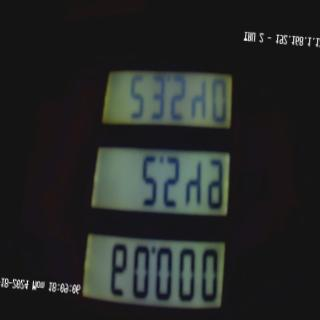screen: (71, 43, 250, 320)
